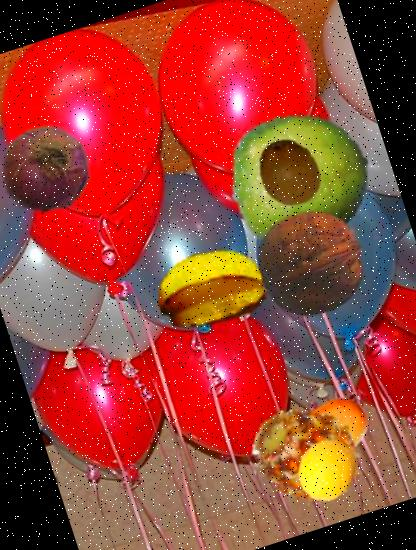Cantaloupe: (285, 429, 366, 510)
Carambula: (142, 220, 279, 357)
Kiwi: (244, 126, 334, 218)
Lemon: (294, 386, 376, 468)
Limes: (211, 90, 389, 268)
Onion: (0, 111, 101, 224)
Pineapple: (236, 384, 382, 531)
Walnut: (243, 194, 379, 330)
